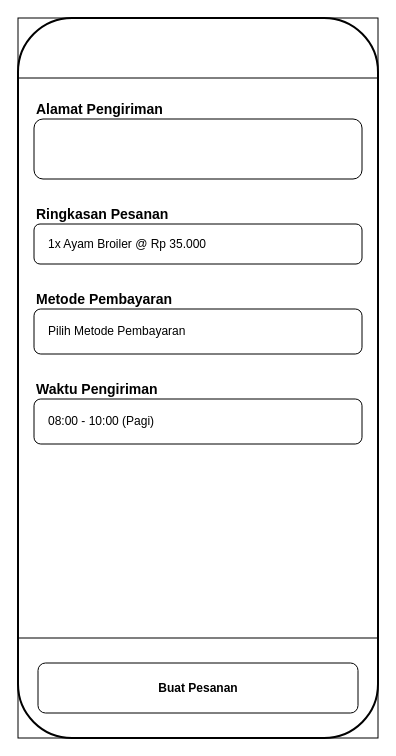
Image size: 396x756. Some labels were removed from this diagram. The shapes that lost their labels are listed below. From the top down, each one's centre as x and y in pixels, then its label:
At [197,47]: "Checkout".
At [197,148]: "Budi Sudarsono Jl. Merdeka No. 123, Jakarta".
